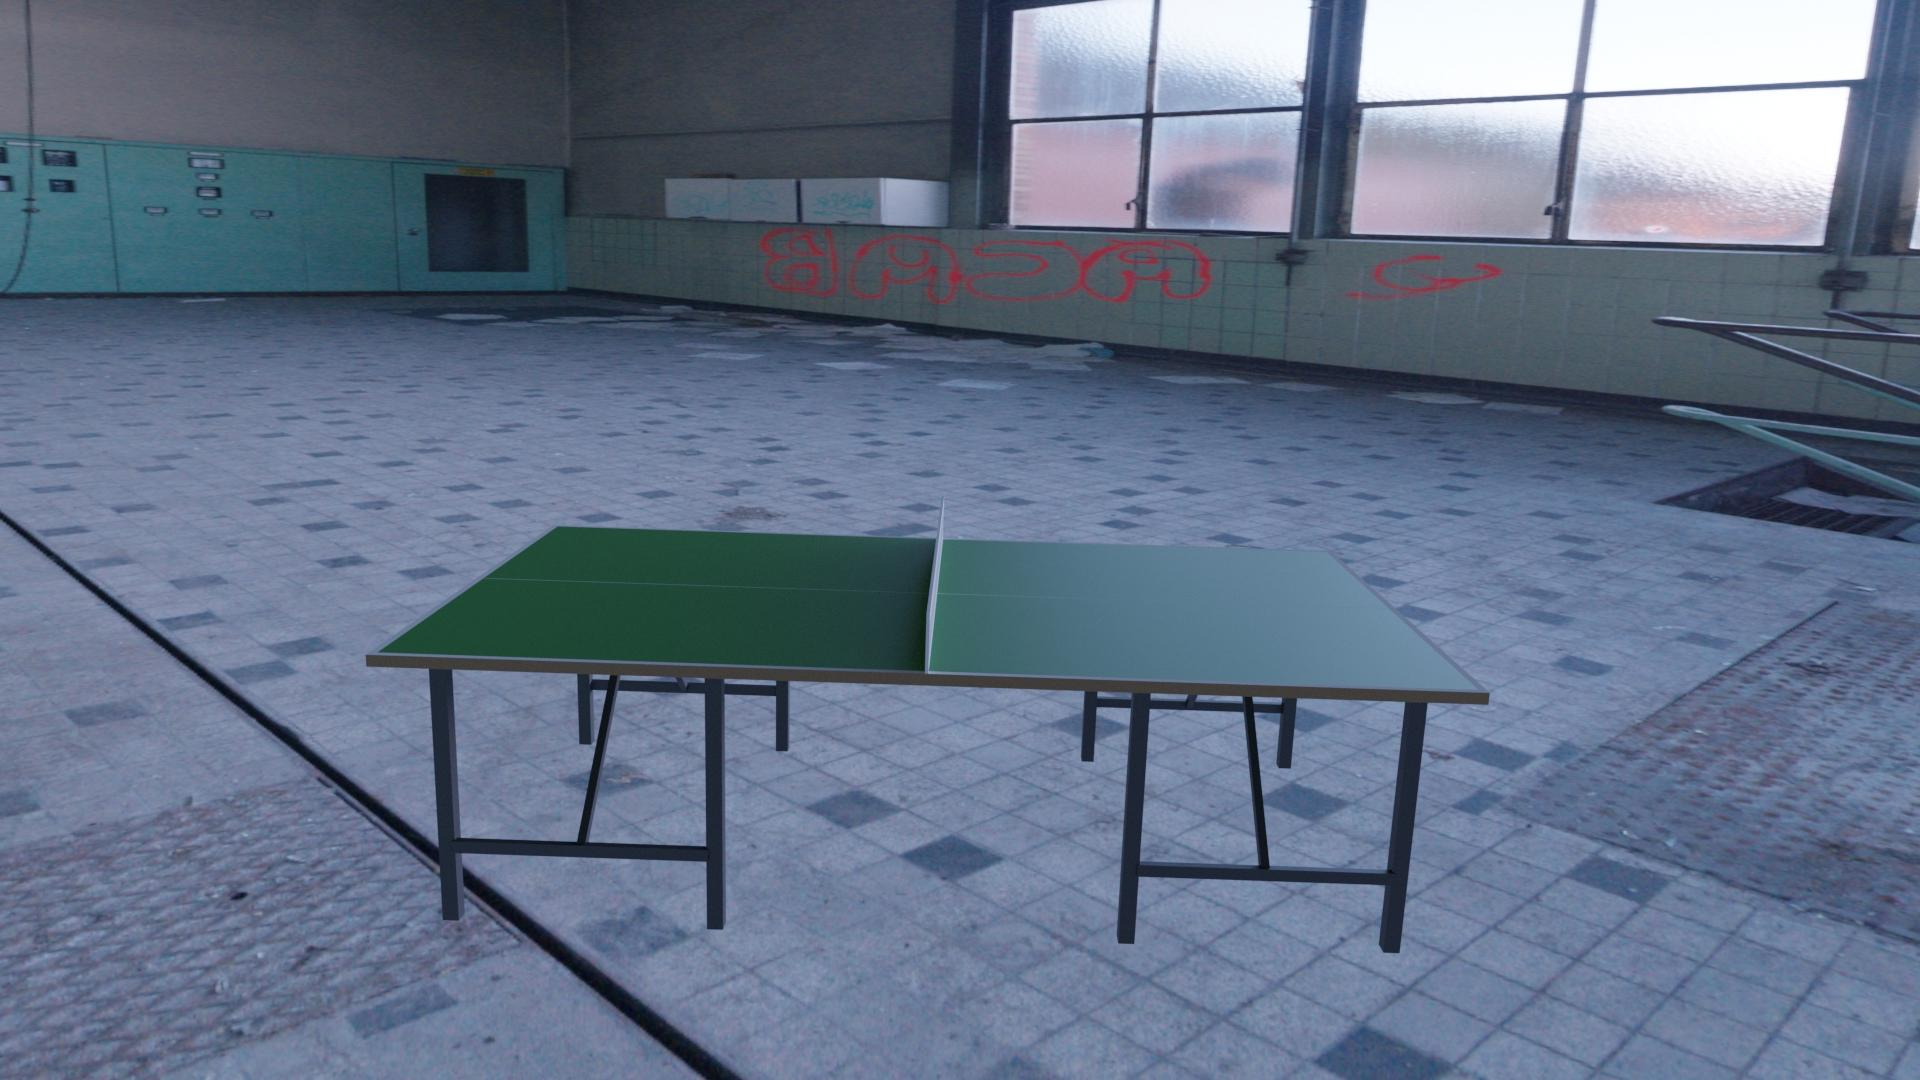table: (377, 526, 1478, 690)
